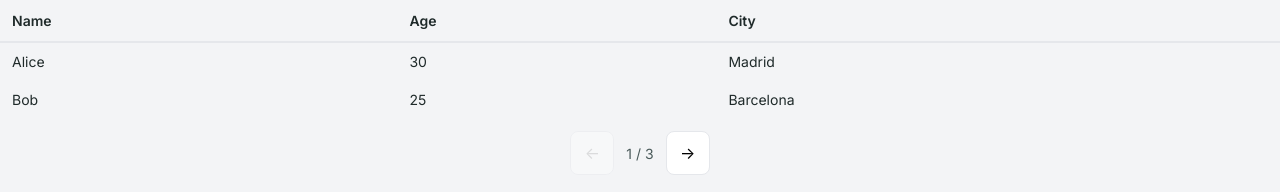
Test case: UiDataTable › Pagination › next button navigates to page 2
Click the button with class "data-table-pagination__btn" showing "→" at coordinates (688, 153), box [666, 131, 710, 175]
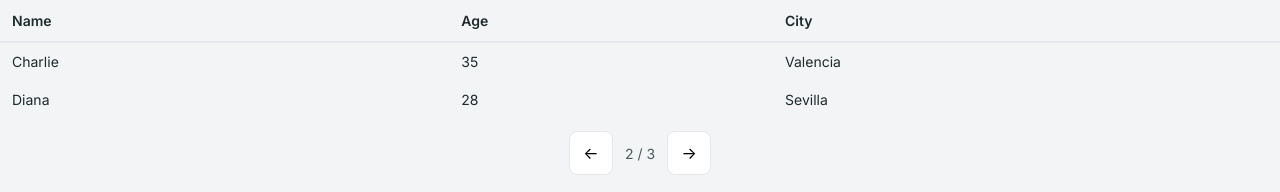
Result: the text with class "data-table-pagination__info" reads "2 / 3" at [625, 144, 655, 162]
